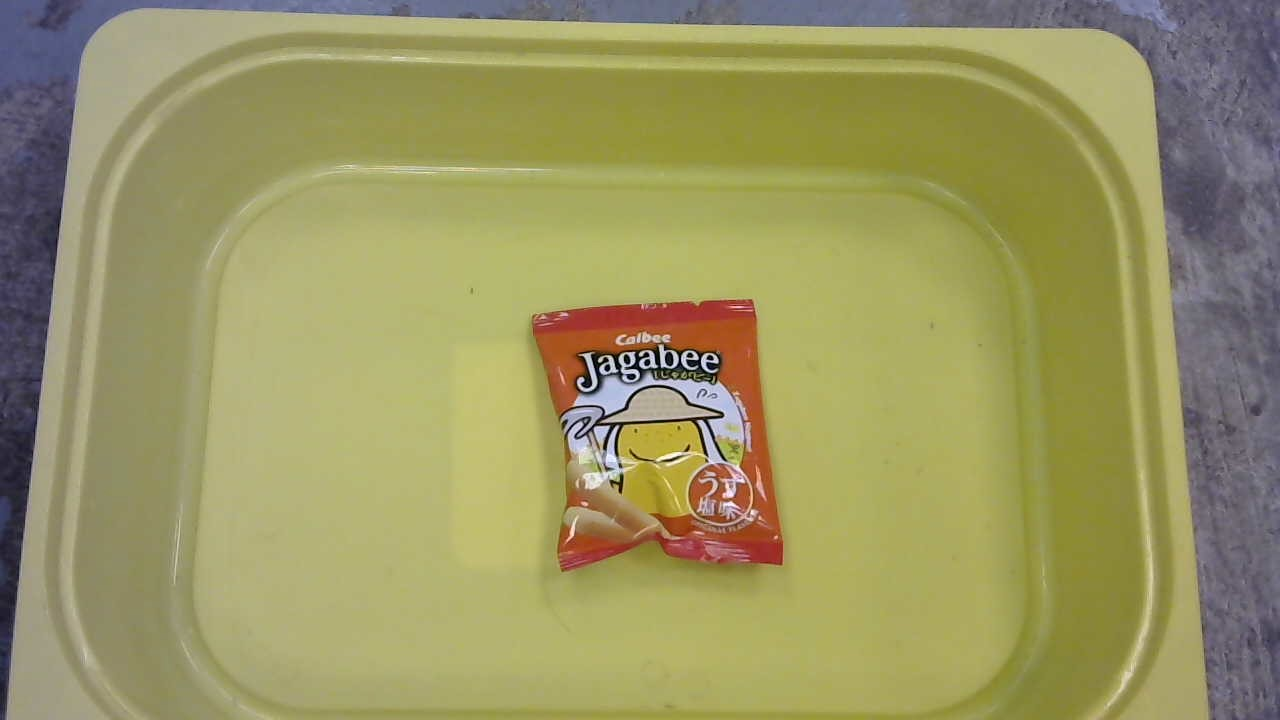JagabeeFarmer: (505, 298, 817, 589)
